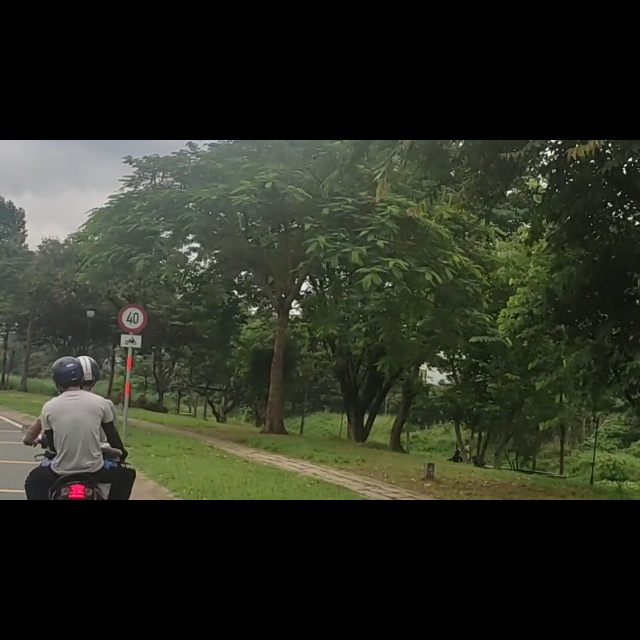Tốc độ tối đa cho phép 40km/h: (117, 303, 148, 334)
